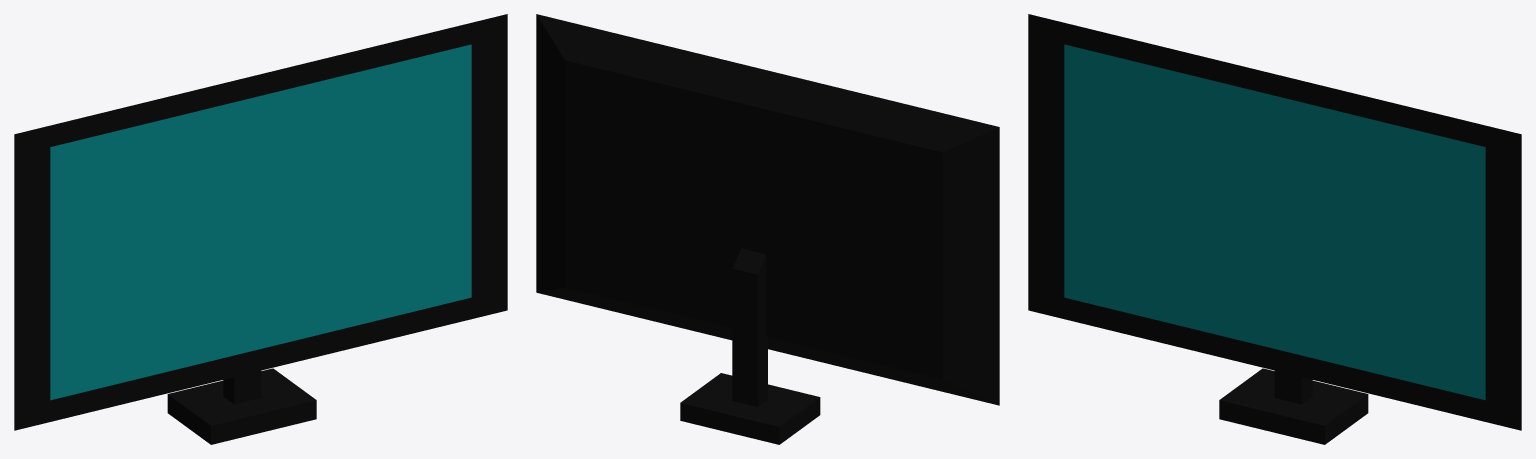
The picture shows the model from 3 angles, left to right: view 1: azimuth 30°, elevation 25°; view 2: azimuth 150°, elevation 25°; view 3: azimuth 330°, elevation 25°; orthographic projection. The views are drawn at different scales.
Parts seen in each view (by area): view 1: Screen, Main, Base; view 2: Main, Base; view 3: Screen, Main, Base.
Boxes of the visible parts, x1,y1,x2,y2 form: Screen: (50, 44, 471, 400); Main: (14, 14, 507, 430); Base: (167, 368, 316, 444); Main: (536, 14, 999, 405); Base: (680, 248, 820, 444); Screen: (1064, 44, 1485, 400); Main: (1028, 14, 1521, 430); Base: (1219, 368, 1368, 444).
Bounding box in the file's own units: 92.97 × 64.11 × 14.23.
